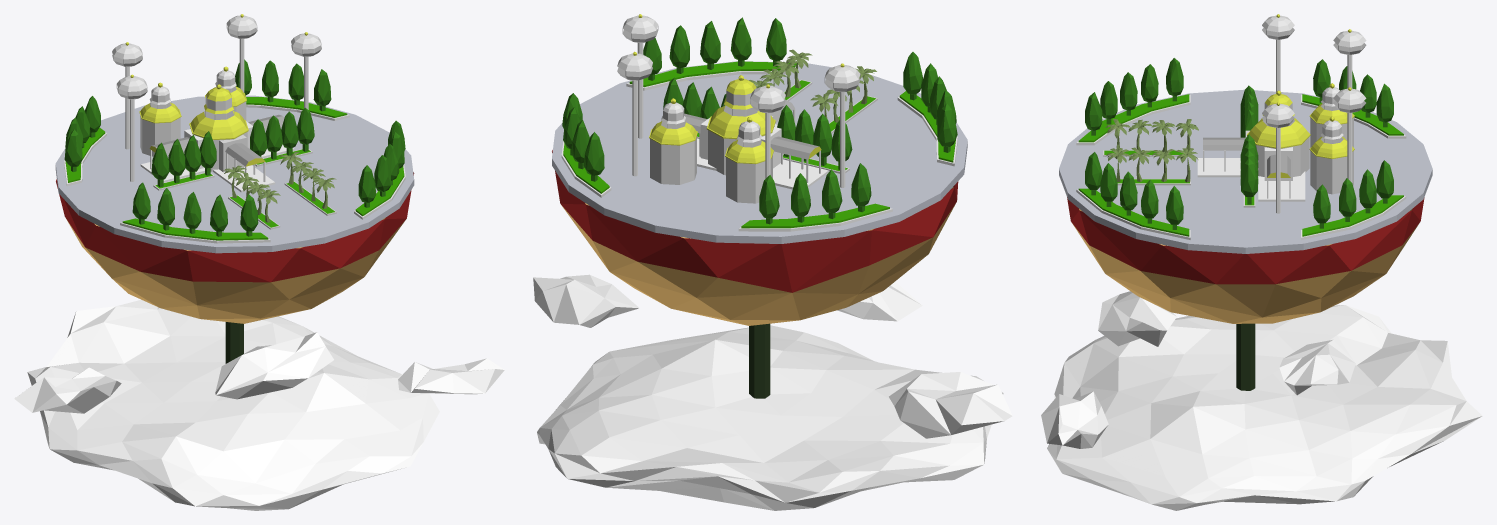
The model's file is kamisama_no_shinden.glb.
The picture shows the model from 3 angles, left to right: view 1: azimuth 30°, elevation 25°; view 2: azimuth 150°, elevation 25°; view 3: azimuth 270°, elevation 25°; orthographic projection. The views are drawn at different scales.
Visible parts, largest first — view 1: Icosphere.003, Icosphere.001, Icosphere (×2), Cube.001, Icosphere.006, Icosphere.002 (×2), Icosphere.004, Icosphere.007, Sphere.006 (×2), Plane.004, Sphere.004, Plane.003 (×2) (+2 smaller); view 2: Icosphere.003, Icosphere.001, Icosphere (×2), Cube.001, Icosphere.004, Icosphere.002 (×2), Icosphere.005, Sphere.005 (×2), Sphere.006 (×2), Sphere.004 (×2), Plane.004, Icosphere.006 (+10 smaller); view 3: Icosphere.003, Icosphere.001, Icosphere (×2), Cube.001, Icosphere.002 (×2), Icosphere.006, Icosphere.007, Icosphere.005, Sphere.005 (×2), Sphere.004 (×2), Plane.004, Cube (+7 smaller).
Boxes of the visible parts, x1,y1,x2,y2 form: Icosphere.003: (27,299,439,510); Icosphere.001: (55,95,414,253); Icosphere (×2): (56,172,414,323); Cube.001: (64,59,405,236); Icosphere.006: (215,332,333,399); Icosphere.002 (×2): (64,97,405,243); Icosphere.004: (14,367,121,413); Icosphere.007: (398,358,504,394); Sphere.006 (×2): (139,86,181,156); Plane.004: (223,151,336,222); Sphere.004: (189,87,248,140); Plane.003 (×2): (153,149,336,229); Icosphere.003: (537,325,1003,510); Icosphere.001: (552,61,967,243); Icosphere (×2): (552,150,958,325); Cube.001: (562,17,957,224); Icosphere.004: (889,372,1012,438); Icosphere.002 (×2): (561,61,957,231); Icosphere.005: (533,274,639,327); Sphere.005 (×2): (649,102,697,184); Sphere.006 (×2): (725,121,773,203); Sphere.004 (×2): (706,79,775,175); Plane.004: (749,49,876,122); Icosphere.006: (837,281,922,321); Icosphere.003: (1047,305,1482,510); Icosphere.001: (1059,89,1432,253); Icosphere (×2): (1067,197,1424,323); Cube.001: (1085,58,1393,229); Icosphere.002 (×2): (1076,94,1406,239); Icosphere.006: (1098,291,1176,346); Icosphere.007: (1041,391,1108,448); Icosphere.005: (1279,339,1355,395); Sphere.005 (×2): (1309,120,1354,194); Sphere.004 (×2): (1247,94,1310,177); Plane.004: (1105,119,1198,182); Cube: (1197,158,1305,201).
Size of the model in its own units: 2.59 by 2.31 by 2.4.
